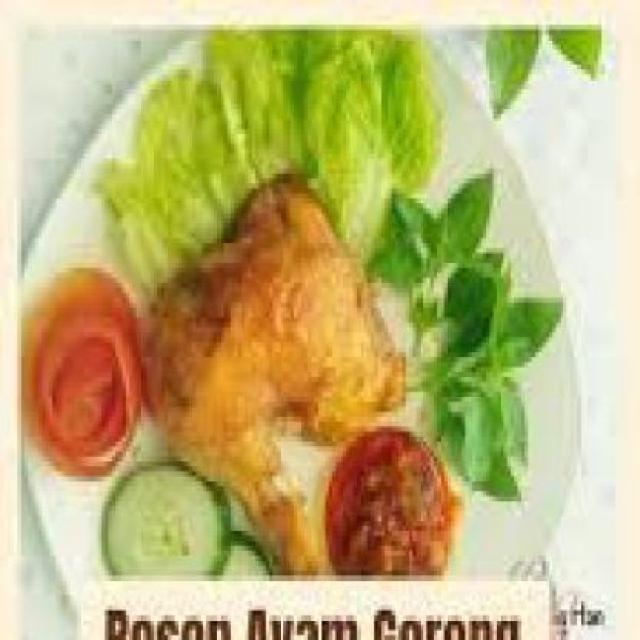Wet Waste: (148, 178, 406, 580)
